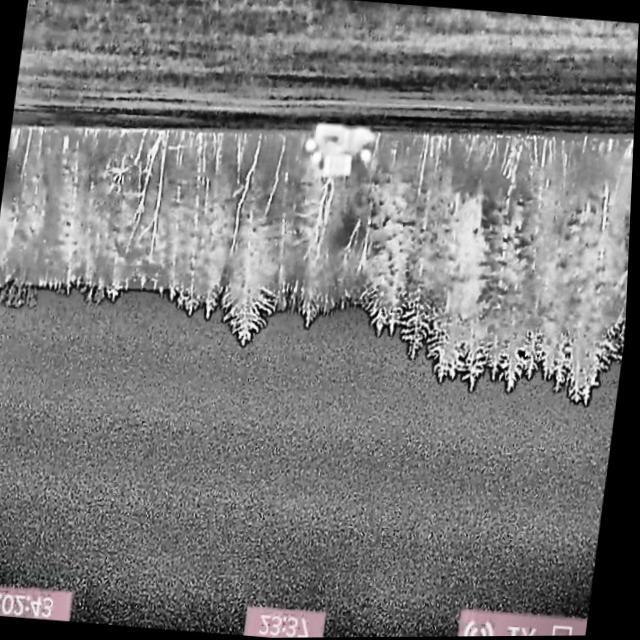drone: (299, 121, 377, 181)
